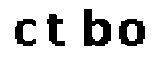b: (78, 6, 113, 52)
c: (13, 17, 37, 49)
o: (118, 15, 147, 53)
t: (39, 10, 70, 52)
